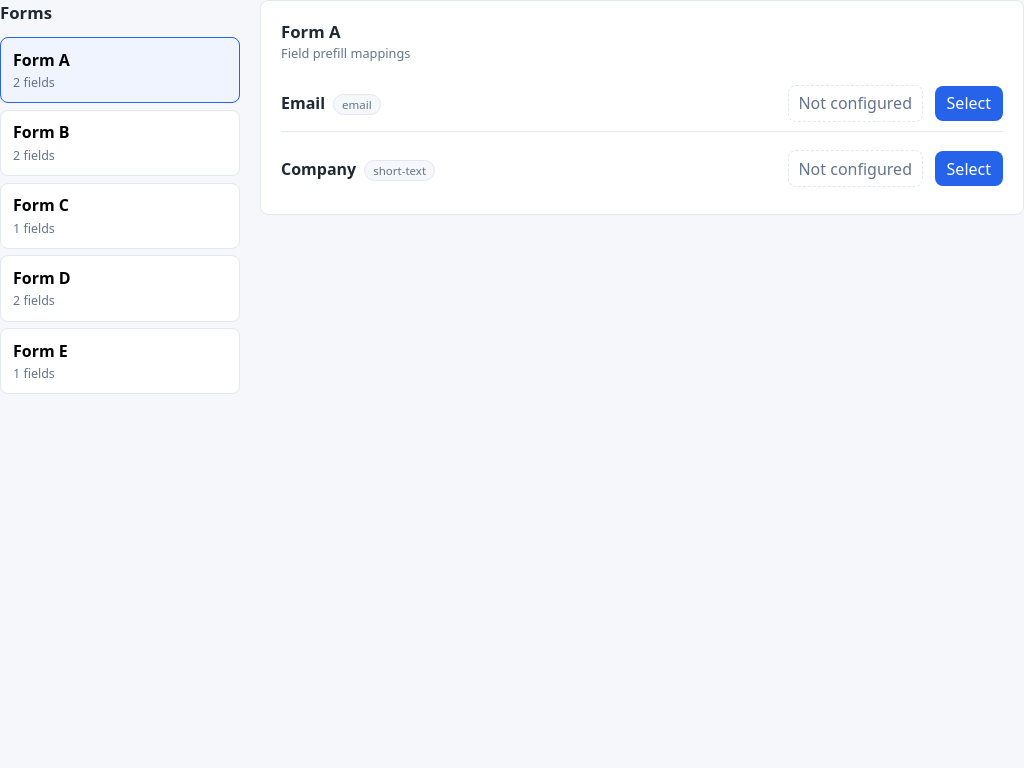
PrefillWorkspace › maps a field from a direct dependency, then clears it
Click the button "Form D 2 fields". click: [120, 288]
box: [0,255,240,322]
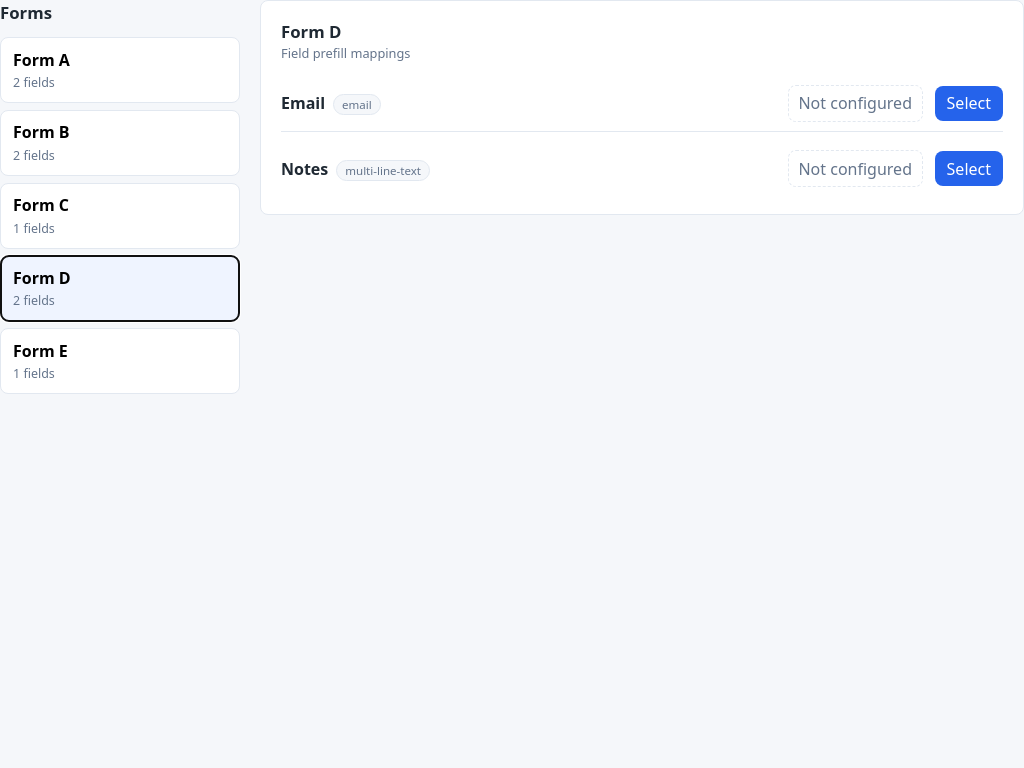
Expected: the 1st button "Not configured" is shown, [788,85,922,122]
Click the 1st button "Select". click: [969, 103]
box: [935,86,1003,121]
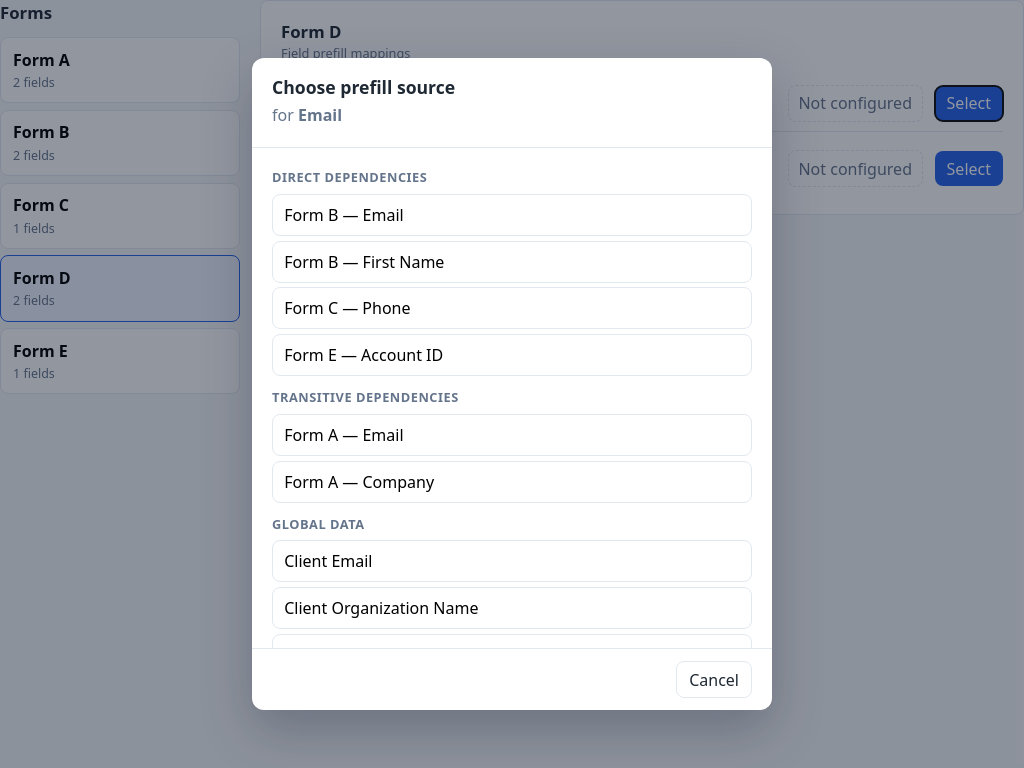
Click the button "Form B — Email". click: [344, 215]
box: [272,194,752,236]
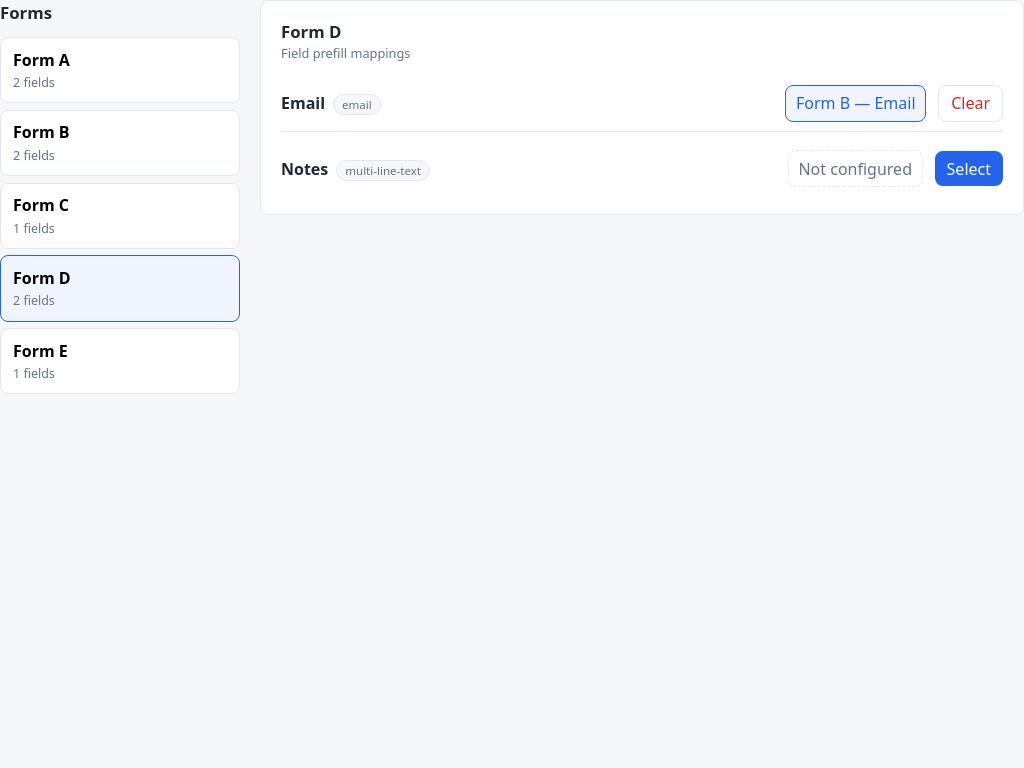
Expected: the dialog is gone
Expected: the button "Form B — Email" is shown, [785,85,926,122]
Click the button "Clear". click: [971, 103]
box: [938,85,1003,122]
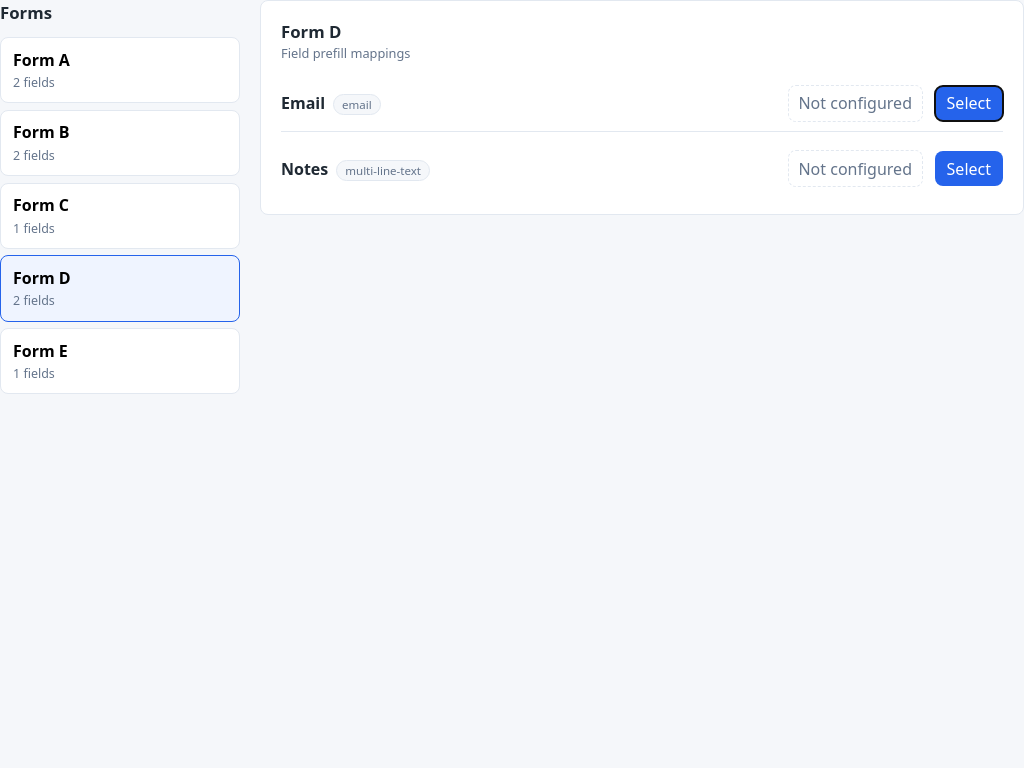
Expected: the 1st button "Not configured" is shown, [788,85,922,122]
